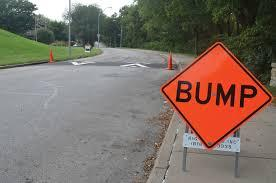Bump: (60, 61, 173, 68)
